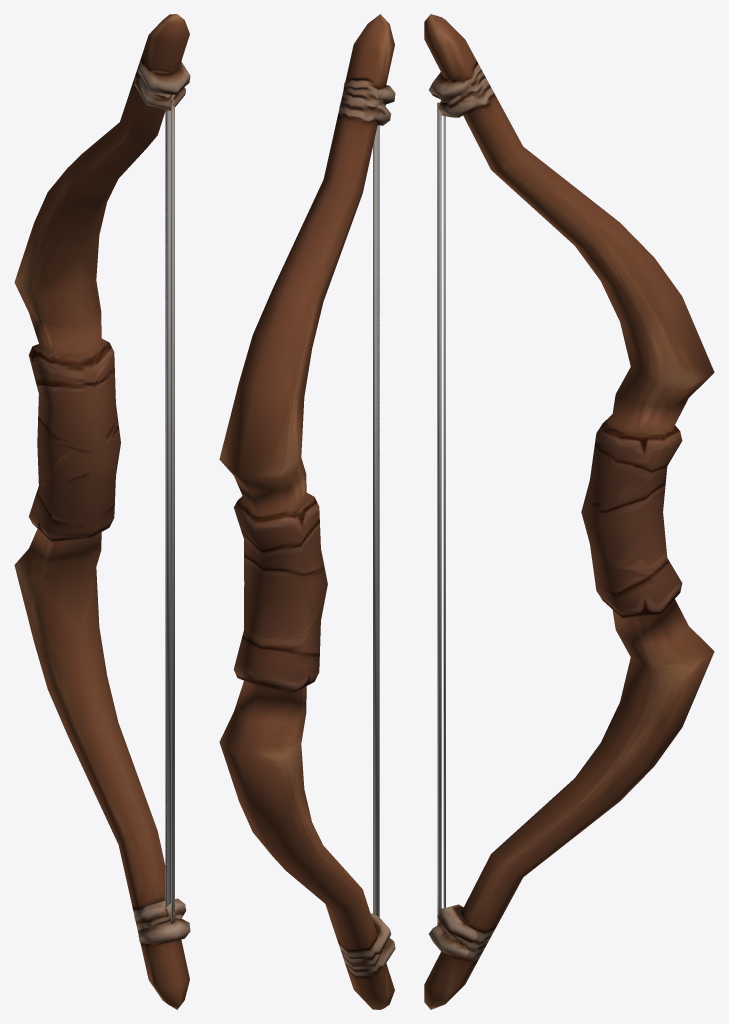
File: ranged_bow_tripo.glb
The picture shows the model from 3 angles, left to right: view 1: azimuth 30°, elevation 25°; view 2: azimuth 150°, elevation 25°; view 3: azimuth 270°, elevation 25°; orthographic projection.
Parts seen in each view (by area): view 1: tripo_node_c705f812-bbe0-4826-938d-a69b0c544a8b; view 2: tripo_node_c705f812-bbe0-4826-938d-a69b0c544a8b; view 3: tripo_node_c705f812-bbe0-4826-938d-a69b0c544a8b.
Boxes of the visible parts, x1,y1,x2,y2 form: tripo_node_c705f812-bbe0-4826-938d-a69b0c544a8b: [14, 14, 190, 1009]; tripo_node_c705f812-bbe0-4826-938d-a69b0c544a8b: [219, 14, 395, 1009]; tripo_node_c705f812-bbe0-4826-938d-a69b0c544a8b: [424, 14, 714, 1009].
Size of the model in its own units: 0.0684 by 0.998 by 0.2637.
1 material, 1 textured.
